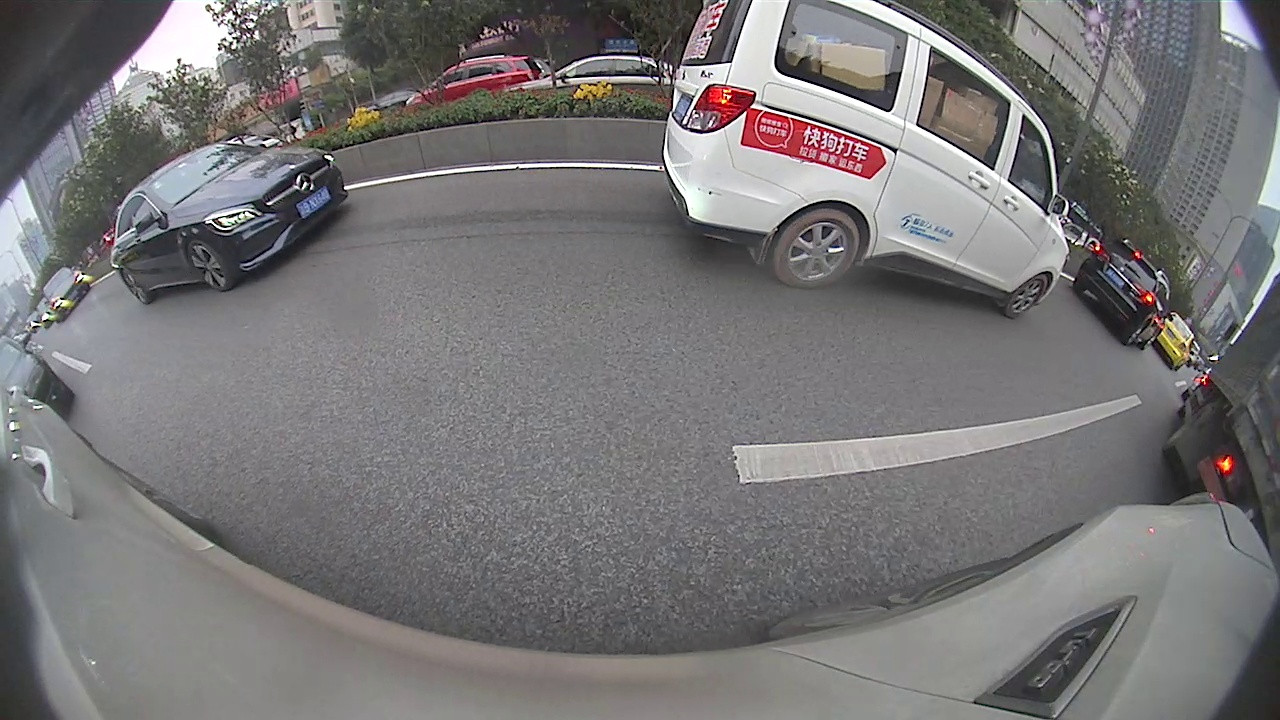car: (662, 1, 1069, 320), (111, 137, 348, 305), (1074, 237, 1170, 348), (40, 269, 92, 319), (1157, 313, 1197, 371)
front: (185, 242, 231, 292), (1004, 271, 1048, 319)
rear: (772, 207, 864, 290), (119, 268, 150, 305)
